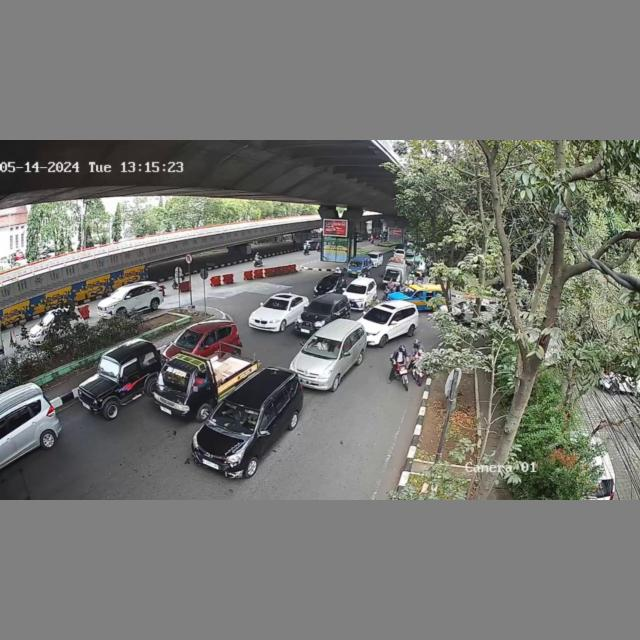windshield: (212, 402, 260, 432), (300, 336, 342, 361), (158, 364, 190, 396), (177, 329, 200, 348), (366, 307, 391, 324), (262, 296, 290, 311), (306, 300, 335, 314)
